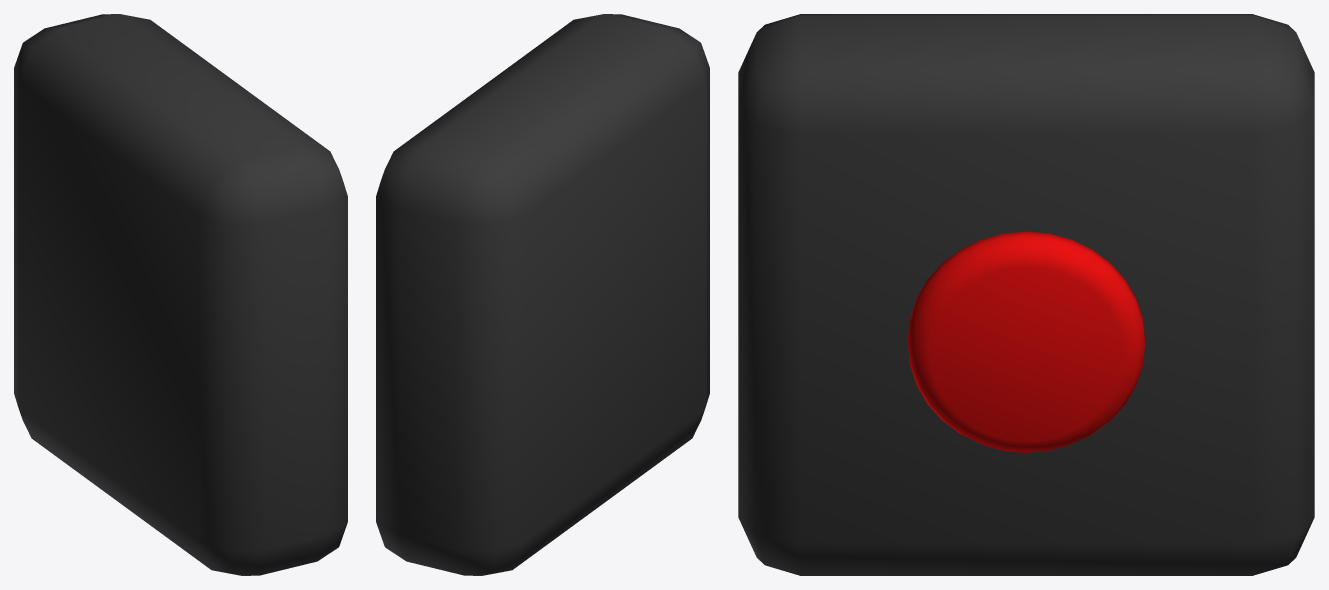
Rendered from boton.fbx.
3 renders of one model, left to right at view 1: azimuth 30°, elevation 25°; view 2: azimuth 150°, elevation 25°; view 3: azimuth 270°, elevation 25°, orthographic. The views are drawn at different scales.
Parts seen in each view (by area): view 1: Cylinder; view 2: Cylinder; view 3: Cylinder.
Boxes of the visible parts, left/top/right/bottom form: Cylinder: left=14, top=14, right=347, bottom=575; Cylinder: left=376, top=14, right=709, bottom=575; Cylinder: left=738, top=14, right=1314, bottom=575.
Bounding box in the file's own units: 35.2 × 83.12 × 83.12.
